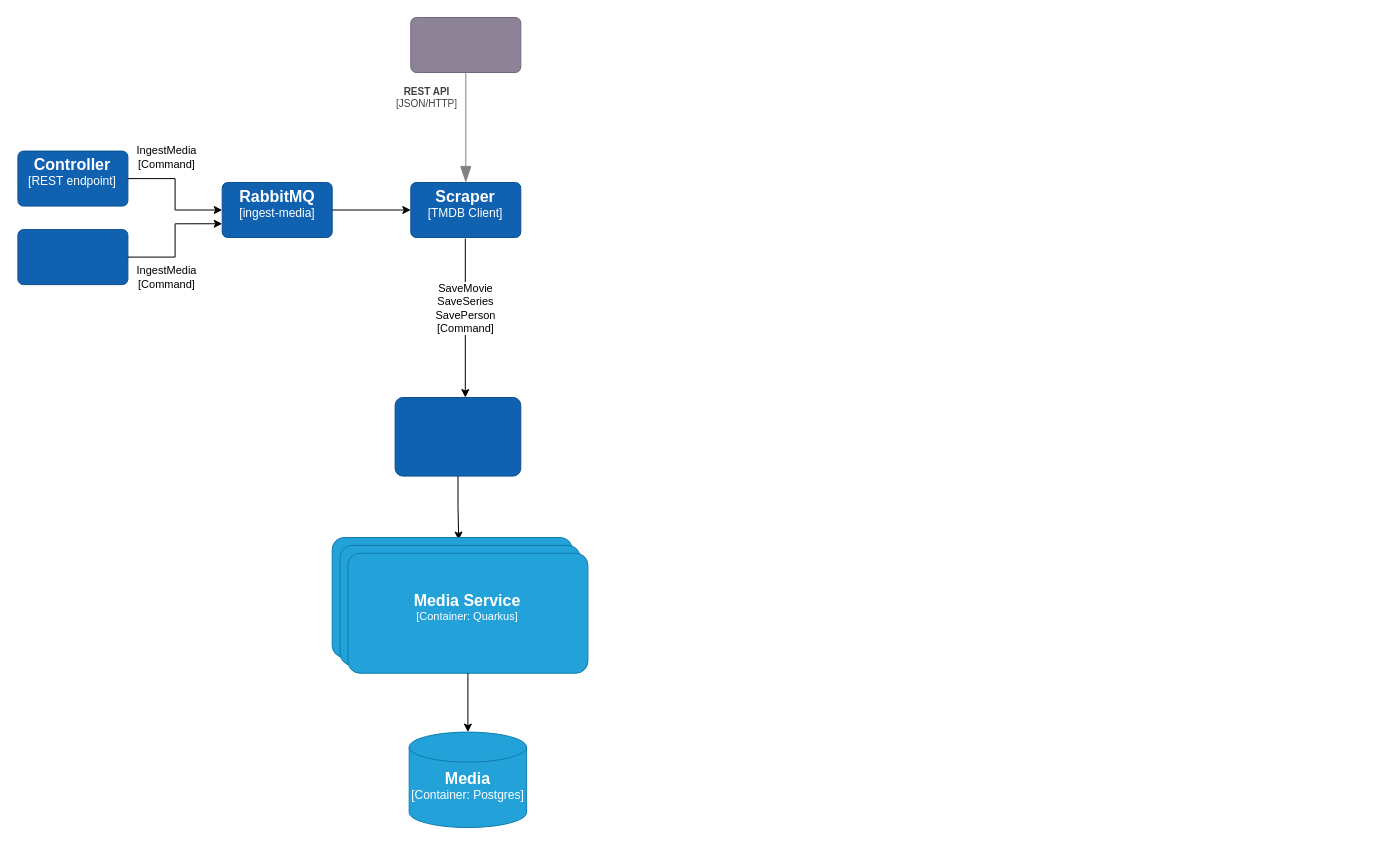
Image size: 1374x845. Some labels were removed from this diagram. Here are the shapes that lost their labels. From the top down, the centre of each, then its label:
At pixel 465 44: "TMDB API [External]".
At pixel 72 257: "Scheduler [Quarkus scheduler]".
At pixel 457 436: "RabbitMQ [save-movie save-series save-person]".
